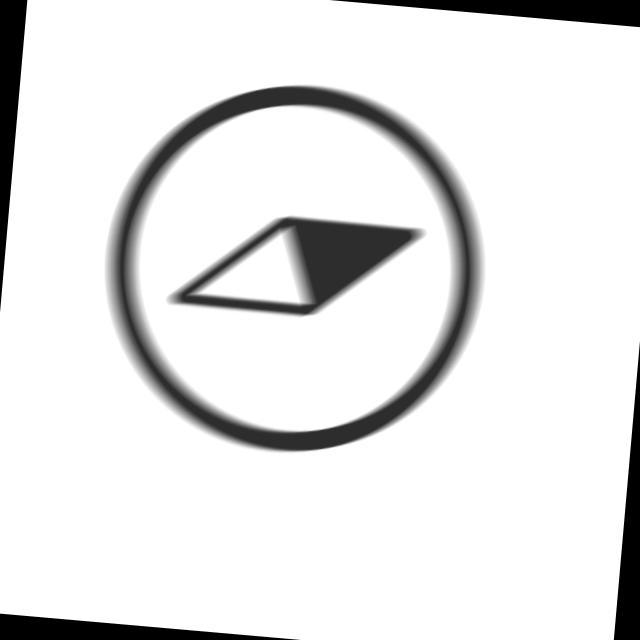compass: (78, 61, 509, 485)
